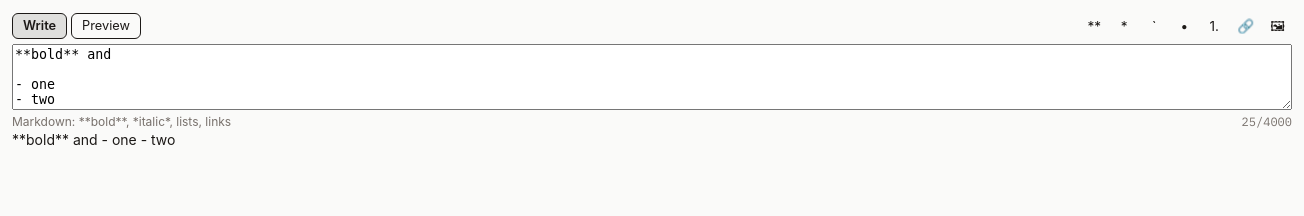
it: IssueMarkdownEditor Write/Preview tabs › renders the preview with the production renderer and returns to write
The image size is (1304, 216).
Click the tab "Preview".
click(106, 26)  # box x1=71 y1=13 x2=141 y2=39
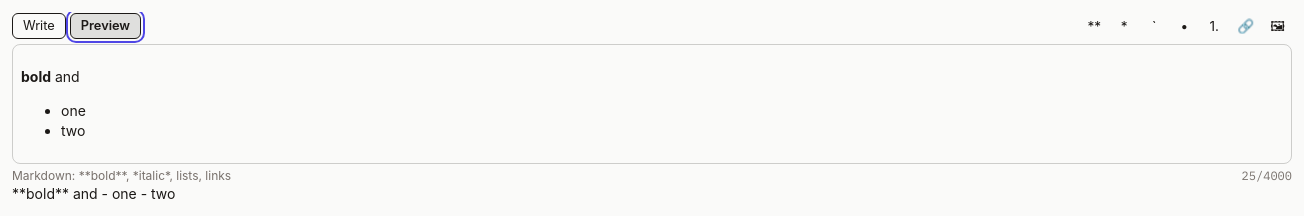
Now the text "bold" is shown, box x1=21 y1=68 x2=51 y2=85
Now the number of list items is 2, box x1=61 y1=102 x2=86 y2=119; x1=61 y1=122 x2=85 y2=139
Now the text box labelled "Body" is gone
Click the tab "Write".
click(39, 26)  # box x1=12 y1=13 x2=66 y2=39
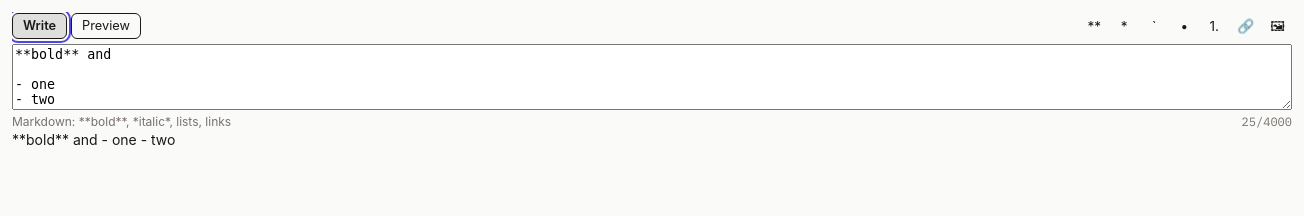
Now the text box named "Body" is shown, box x1=12 y1=44 x2=1292 y2=110
